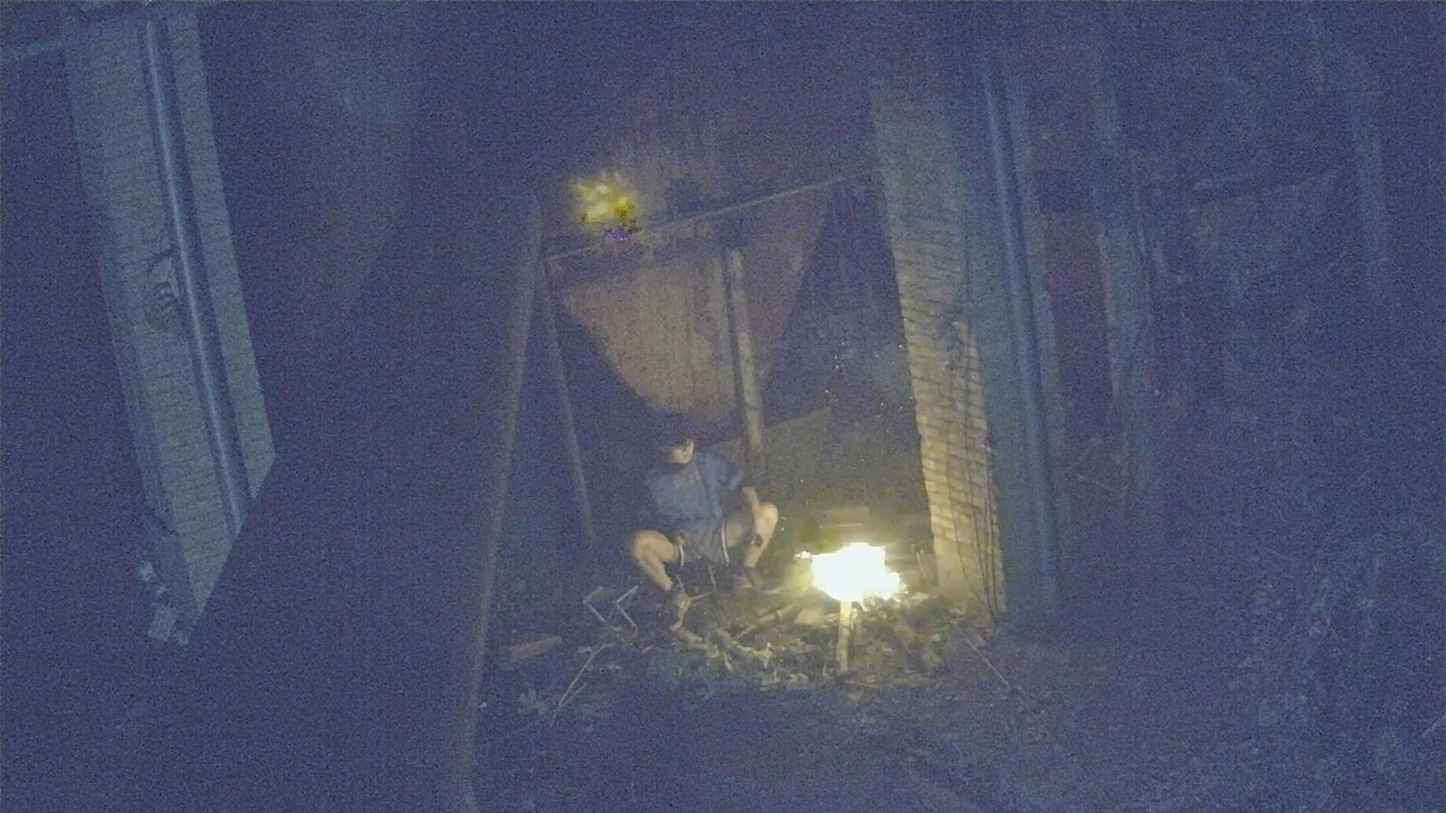fire: (812, 542, 900, 603)
